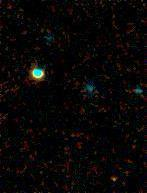star: (107, 165, 137, 193)
